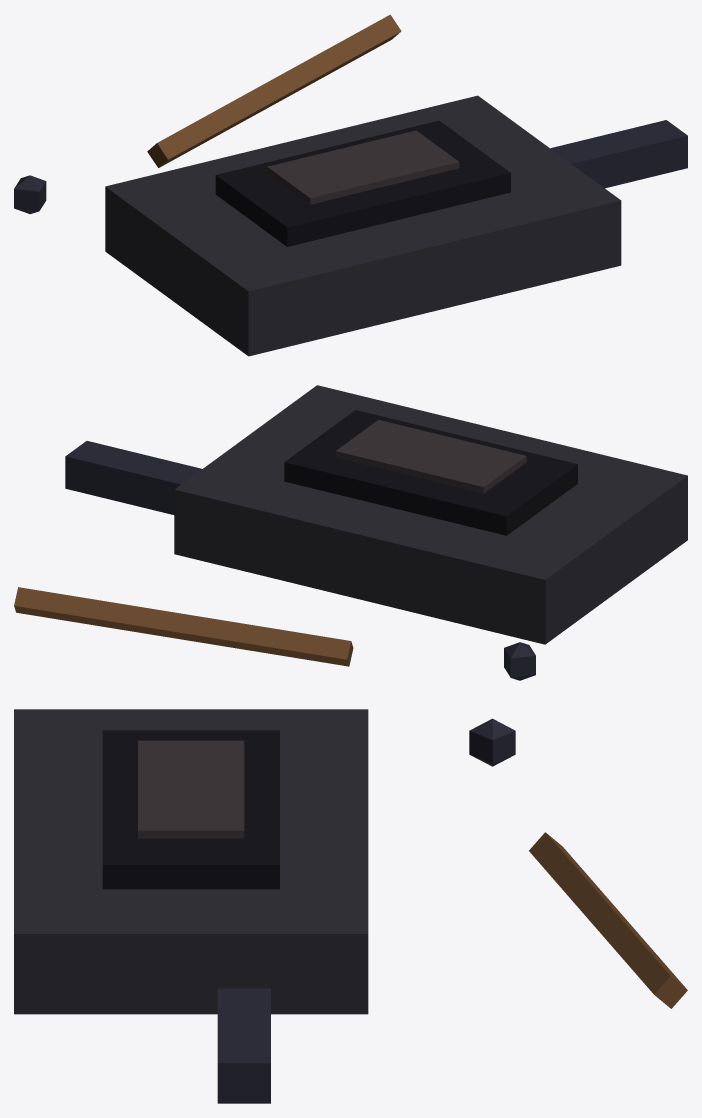
File: prop_dry_inkstone.glb
The picture shows the model from 3 angles, top to bottom: view 1: azimuth 30°, elevation 25°; view 2: azimuth 150°, elevation 25°; view 3: azimuth 270°, elevation 25°; orthographic projection. The views are drawn at different scales.
Visible parts, largest first — view 1: prop_dry_inkstone; view 2: prop_dry_inkstone; view 3: prop_dry_inkstone.
Part boxes in pixels (x1,y1,x2,y2): prop_dry_inkstone: (14,14,687,356); prop_dry_inkstone: (14,385,687,680); prop_dry_inkstone: (14,709,687,1103).
Bounding box in the file's own units: 0.453 × 0.0725 × 0.3803.
